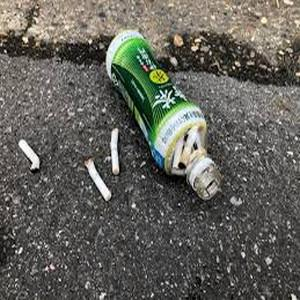Plastic: (115, 20, 234, 194)
